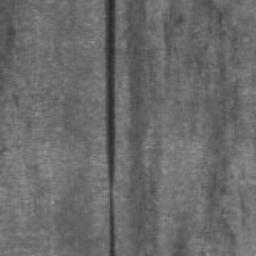Scratches: (105, 0, 115, 256)
